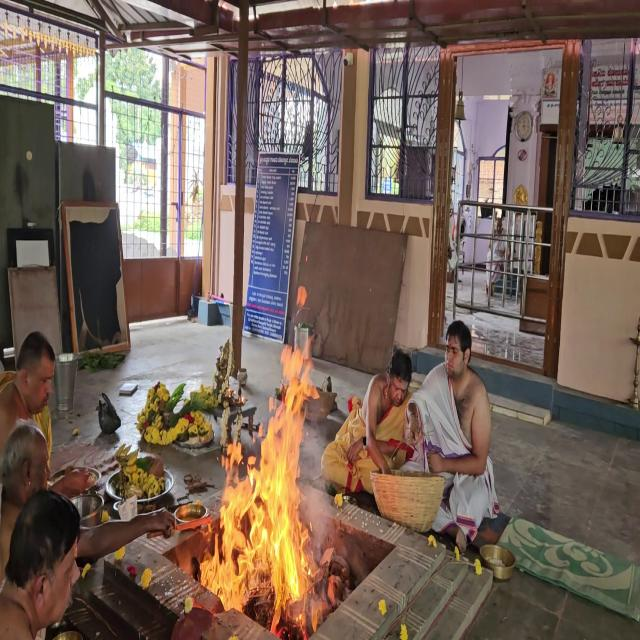fire: (205, 316, 322, 628)
